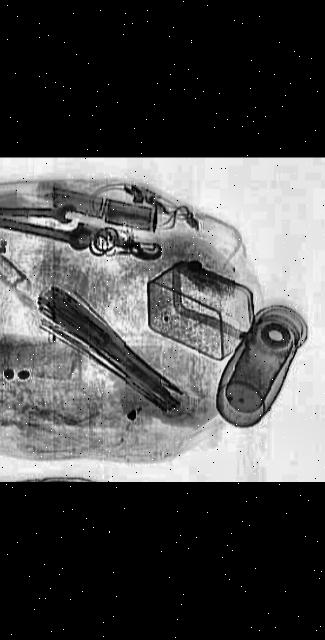Wrench: (0, 208, 99, 252), (0, 199, 79, 225)
